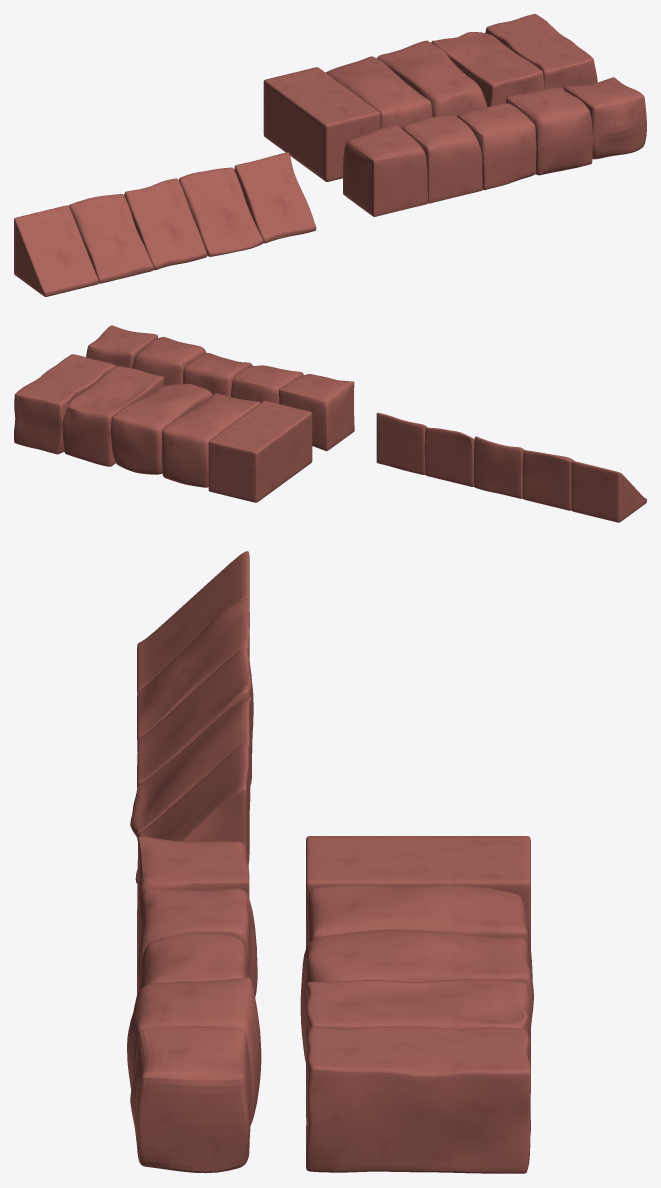
The model's file is Context_Blend meat.fbx.
The picture shows the model from 3 angles, top to bottom: view 1: azimuth 30°, elevation 25°; view 2: azimuth 150°, elevation 25°; view 3: azimuth 270°, elevation 25°; orthographic projection. The views are drawn at different scales.
Parts seen in each view (by area): view 1: MeatCubeLong1, MeatCube1, MeatCubeSlope1, MeatCube4, MeatCubeSlope4, MeatCubeSlope3, MeatCubeSlope2, MeatCubeSlope5, MeatCube2, MeatCube3, MeatCubeLong4, MeatCubeLong5 (+3 smaller); view 2: MeatCubeLong1, MeatCubeLong4, MeatCubeLong5, MeatCubeLong3, MeatCubeLong2, MeatCube1, MeatCubeSlope1, MeatCubeSlope2, MeatCubeSlope4, MeatCubeSlope5, MeatCubeSlope3, MeatCube4 (+3 smaller); view 3: MeatCubeLong5, MeatCube5, MeatCubeLong1, MeatCubeLong3, MeatCubeLong4, MeatCubeLong2, MeatCube4, MeatCubeSlope5, MeatCube2, MeatCubeSlope3, MeatCubeSlope2, MeatCube1 (+3 smaller).
Boxes of the visible parts, left/top/right/bottom form: MeatCubeLong1: left=263, top=67, right=380, bottom=181; MeatCube1: left=343, top=125, right=427, bottom=216; MeatCubeSlope1: left=14, top=205, right=98, bottom=296; MeatCube4: left=506, top=87, right=592, bottom=175; MeatCubeSlope4: left=179, top=167, right=263, bottom=256; MeatCubeSlope3: left=124, top=178, right=207, bottom=270; MeatCubeSlope2: left=69, top=194, right=153, bottom=283; MeatCubeSlope5: left=234, top=152, right=316, bottom=243; MeatCube2: left=401, top=115, right=482, bottom=203; MeatCube3: left=457, top=103, right=536, bottom=190; MeatCubeLong4: left=431, top=32, right=544, bottom=106; MeatCubeLong5: left=485, top=14, right=597, bottom=89; MeatCubeLong1: left=208, top=400, right=312, bottom=502; MeatCubeLong4: left=62, top=366, right=164, bottom=466; MeatCubeLong5: left=14, top=354, right=115, bottom=454; MeatCubeLong3: left=110, top=383, right=212, bottom=474; MeatCubeLong2: left=161, top=393, right=260, bottom=487; MeatCube1: left=279, top=374, right=354, bottom=451; MeatCubeSlope1: left=571, top=461, right=646, bottom=522; MeatCubeSlope2: left=522, top=450, right=574, bottom=510; MeatCubeSlope4: left=424, top=427, right=474, bottom=486; MeatCubeSlope5: left=376, top=412, right=427, bottom=474; MeatCubeSlope3: left=474, top=436, right=524, bottom=498; MeatCube4: left=132, top=337, right=206, bottom=385; MeatCubeLong5: left=306, top=1026, right=530, bottom=1173; MeatCube5: left=130, top=1027, right=251, bottom=1173; MeatCubeLong1: left=306, top=836, right=530, bottom=947; MeatCubeLong3: left=300, top=929, right=533, bottom=1062; MeatCubeLong4: left=306, top=979, right=530, bottom=1118; MeatCubeLong2: left=306, top=885, right=532, bottom=980; MeatCube4: left=127, top=977, right=261, bottom=1124; MeatCubeSlope5: left=135, top=743, right=249, bottom=883; MeatCube2: left=137, top=888, right=257, bottom=997; MeatCubeSlope3: left=137, top=647, right=253, bottom=787; MeatCubeSlope2: left=137, top=598, right=249, bottom=739; MeatCube1: left=137, top=836, right=249, bottom=960.
Size of the model in its own units: 2202 by 231 by 723.
